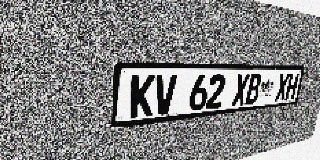2: (206, 74, 226, 109)
6: (188, 74, 210, 111)
B: (245, 74, 262, 105)
H: (284, 73, 299, 100)
K: (129, 75, 155, 118)
V: (153, 75, 177, 116)
X: (231, 74, 250, 106), (274, 73, 290, 101)
